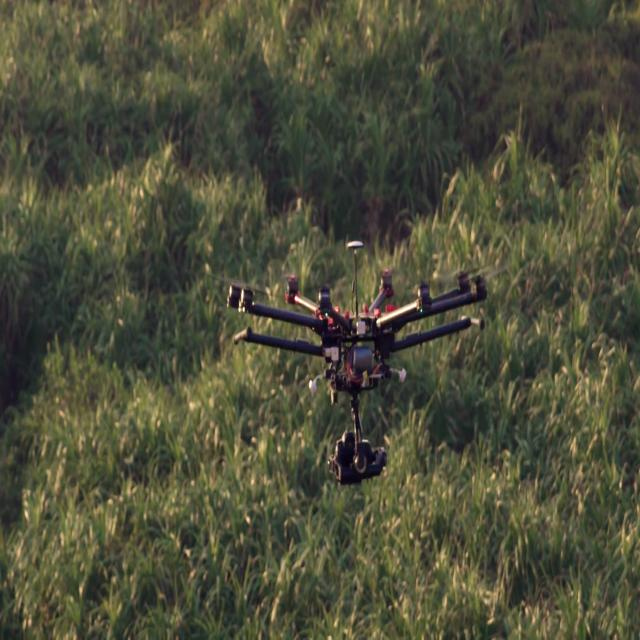drone: (212, 172, 514, 524)
